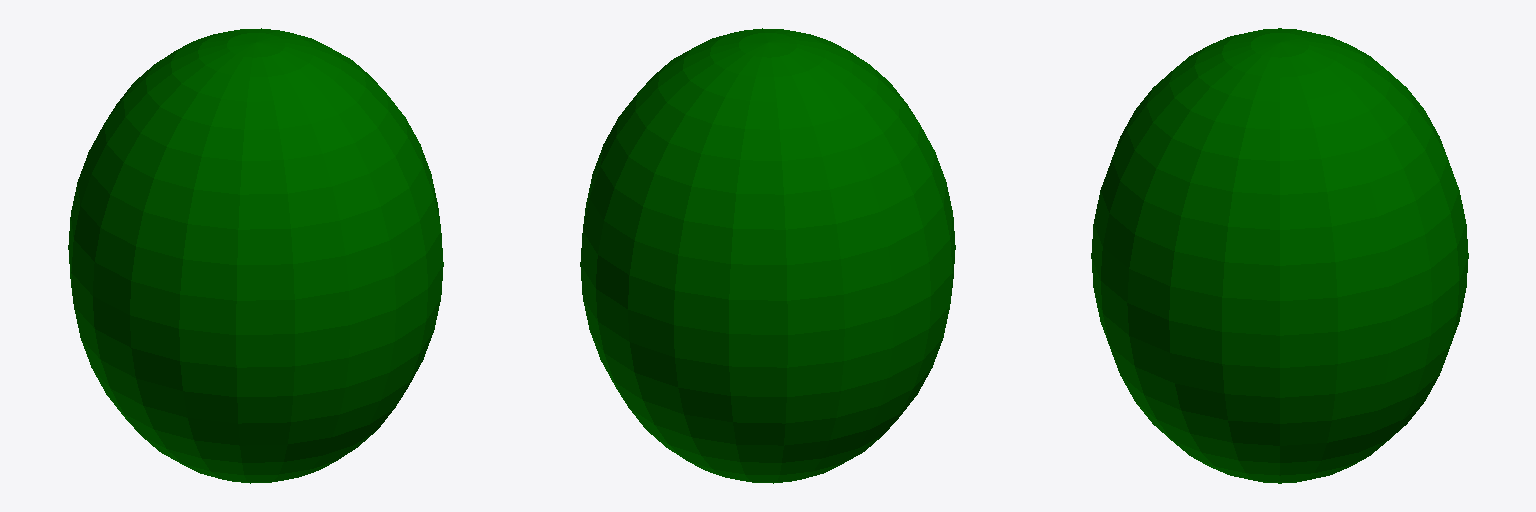
File: Green.obj
3 renders of one model, left to right at view 1: azimuth 30°, elevation 25°; view 2: azimuth 150°, elevation 25°; view 3: azimuth 270°, elevation 25°, orthographic.
Parts seen in each view (by area): view 1: Blue:pSphere1; view 2: Blue:pSphere1; view 3: Blue:pSphere1.
Boxes of the visible parts, x1=… form: Blue:pSphere1: x1=68, y1=28, x2=443, y2=483; Blue:pSphere1: x1=580, y1=28, x2=955, y2=483; Blue:pSphere1: x1=1091, y1=28, x2=1468, y2=483.
Bounding box in the file's own units: 1.6 × 2 × 1.6.